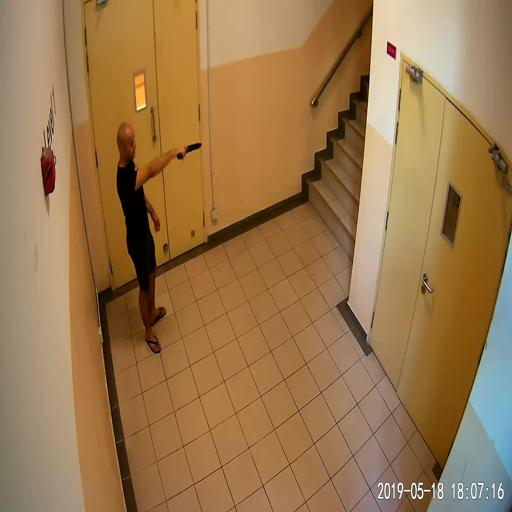pistol: (176, 141, 202, 160)
